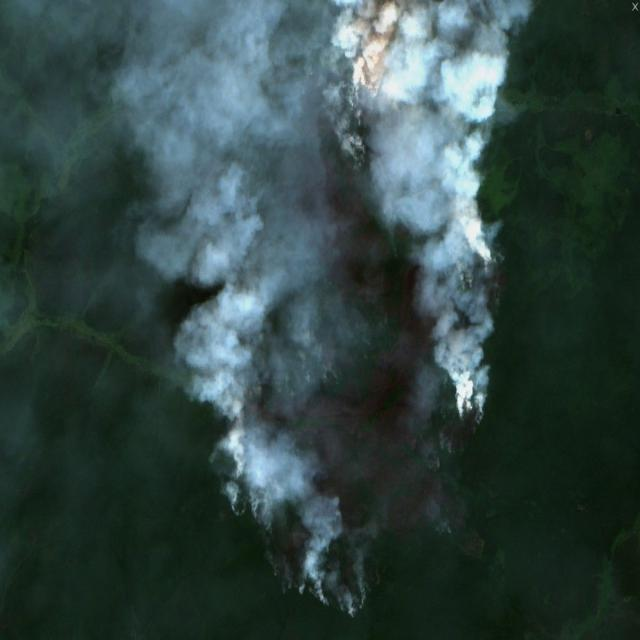fire: (208, 414, 377, 620), (422, 235, 513, 443), (288, 37, 412, 185)
